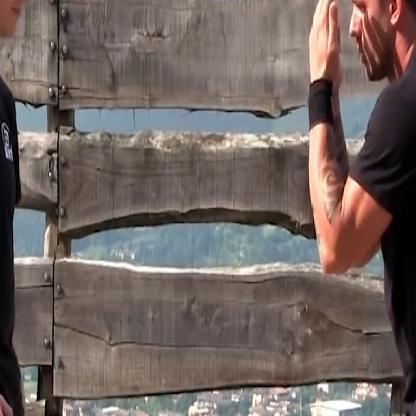knife: (0, 381, 76, 415)
